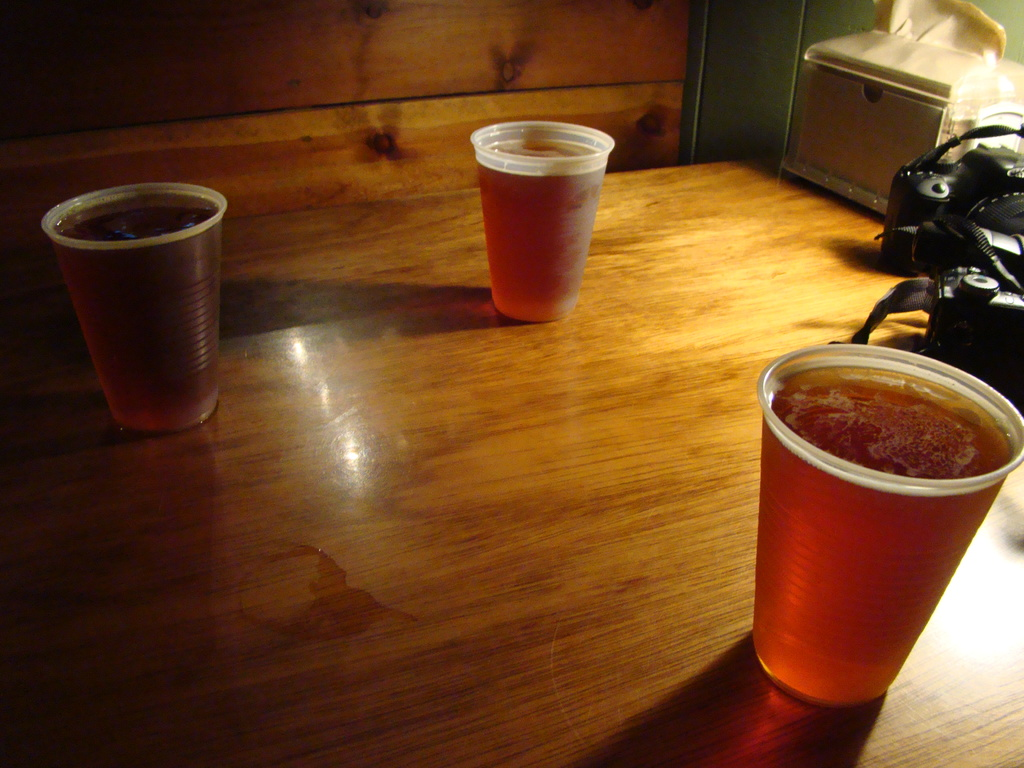Beer: (756, 364, 1014, 701), (50, 204, 222, 435), (460, 120, 618, 320)
